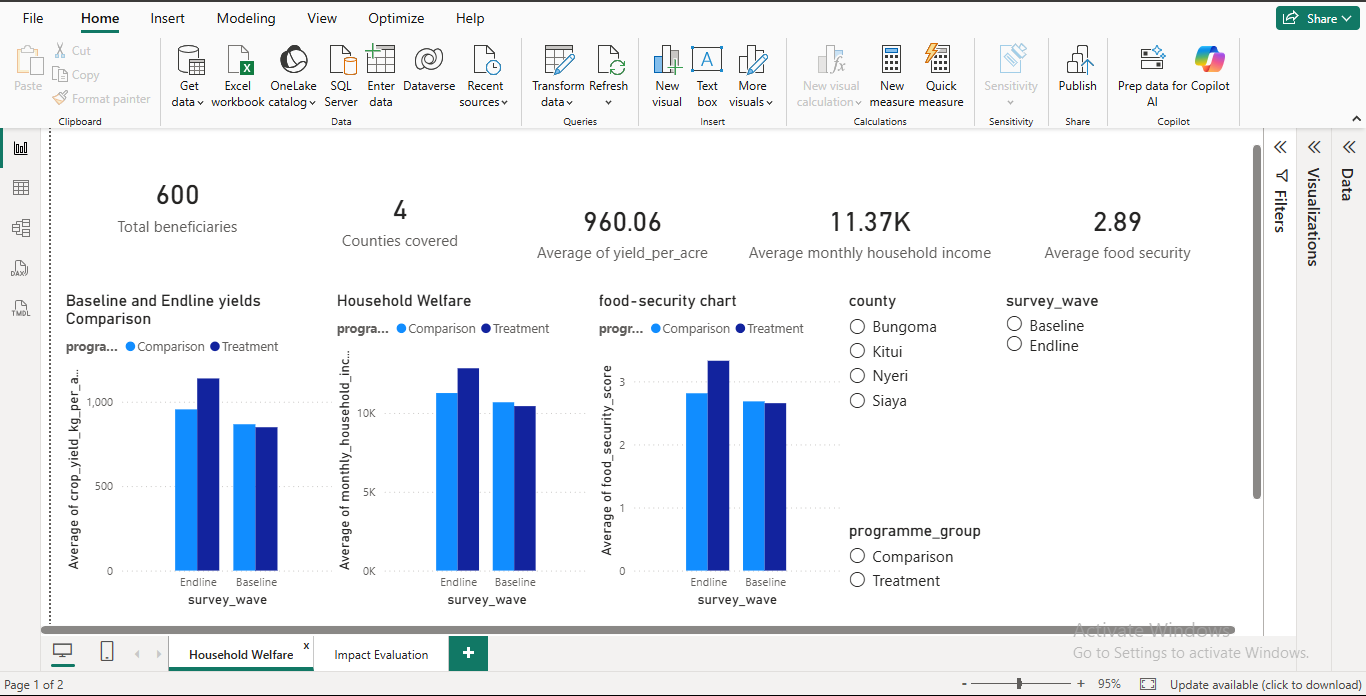

What the dashboard file says about the page in this screenshot:
{"tool":"powerbi","page":{"name":"Household Welfare","canvas":[1280,720],"ordinal":0},"visuals":[{"type":"card","title":"Total beneficiaries","fields":{"Values":["Count(cleaned_beneficiary_survey.beneficiary_id)"]},"box":[10.1,0,245.2,186.5],"z":0},{"type":"card","fields":{"Values":["Count(cleaned_beneficiary_survey.county)"]},"box":[255.3,30.2,223.4,156.2],"z":1000},{"type":"card","fields":{"Values":["Avg(cleaned_beneficiary_survey.yield_per_acre)"]},"box":[478.7,55.4,245.2,131],"z":2000},{"type":"card","fields":{"Values":["Avg(cleaned_beneficiary_survey.monthly_household_income_kes)"]},"box":[724,55.4,275.5,131],"z":3000},{"type":"card","fields":{"Values":["Avg(cleaned_beneficiary_survey.food_security_score)"]},"box":[999.5,55.4,245.2,131],"z":4000},{"type":"clusteredColumnChart","title":"Baseline and Endline yields Comparison","fields":{"Category":["cleaned_beneficiary_survey.survey_wave"],"Y":["Sum(cleaned_beneficiary_survey.crop_yield_kg_per_acre)"],"Series":["cleaned_beneficiary_survey.programme_group"]},"box":[10.1,186.5,290.6,337.6],"z":5000},{"type":"clusteredColumnChart","title":"Household Welfare","fields":{"Category":["cleaned_beneficiary_survey.survey_wave"],"Y":["Sum(cleaned_beneficiary_survey.monthly_household_income_kes)"],"Series":["cleaned_beneficiary_survey.programme_group"]},"box":[295.6,186.5,275.5,337.6],"z":6000},{"type":"clusteredColumnChart","title":"food-security chart","fields":{"Category":["cleaned_beneficiary_survey.survey_wave"],"Y":["Sum(cleaned_beneficiary_survey.food_security_score)"],"Series":["cleaned_beneficiary_survey.programme_group"]},"box":[571.1,186.5,263.7,337.6],"z":7000},{"type":"listSlicer","fields":{"Values":["cleaned_beneficiary_survey.county"]},"box":[834.9,186.5,152.9,241.9],"z":8000},{"type":"listSlicer","fields":{"Values":["cleaned_beneficiary_survey.survey_wave"]},"box":[999.5,186.5,146.1,196.5],"z":8001},{"type":"listSlicer","fields":{"Values":["cleaned_beneficiary_survey.programme_group"]},"box":[834.9,428.3,210,233.5],"z":8002}]}

Visuals, with their boxes on the page's 1280x720 design canvas (x1, y1, x2, y2). These are canvas units, not pixel positions in the 1366x696 screenshot, which may show the page scaled, cropped or inside an application window:
"Total beneficiaries" card: rect(10, 0, 255, 186)
card - Count(cleaned_beneficiary_survey.county): rect(255, 30, 479, 186)
card - Avg(cleaned_beneficiary_survey.yield_per_acre): rect(479, 55, 724, 186)
card - Avg(cleaned_beneficiary_survey.monthly_household_income_kes): rect(724, 55, 1000, 186)
card - Avg(cleaned_beneficiary_survey.food_security_score): rect(1000, 55, 1245, 186)
"Baseline and Endline yields Comparison" clusteredColumnChart: rect(10, 186, 301, 524)
"Household Welfare" clusteredColumnChart: rect(296, 186, 571, 524)
"food-security chart" clusteredColumnChart: rect(571, 186, 835, 524)
listSlicer - cleaned_beneficiary_survey.county: rect(835, 186, 988, 428)
listSlicer - cleaned_beneficiary_survey.survey_wave: rect(1000, 186, 1146, 383)
listSlicer - cleaned_beneficiary_survey.programme_group: rect(835, 428, 1045, 662)
